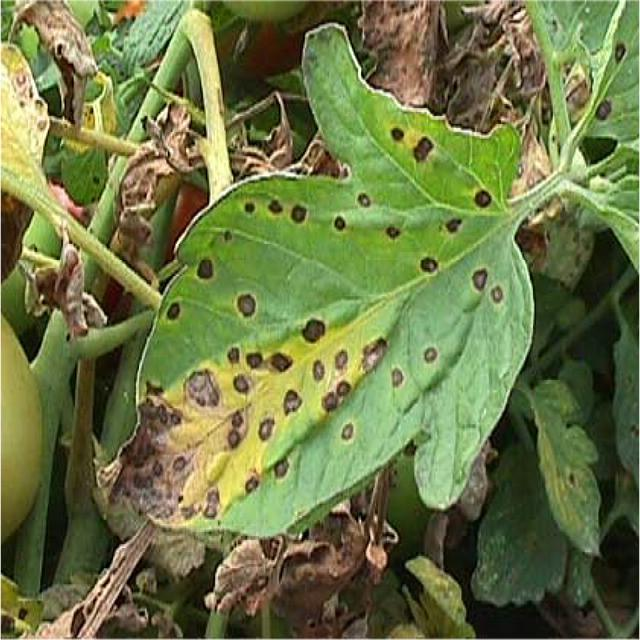Tomato bacterial spot leaf: (95, 26, 538, 544)
